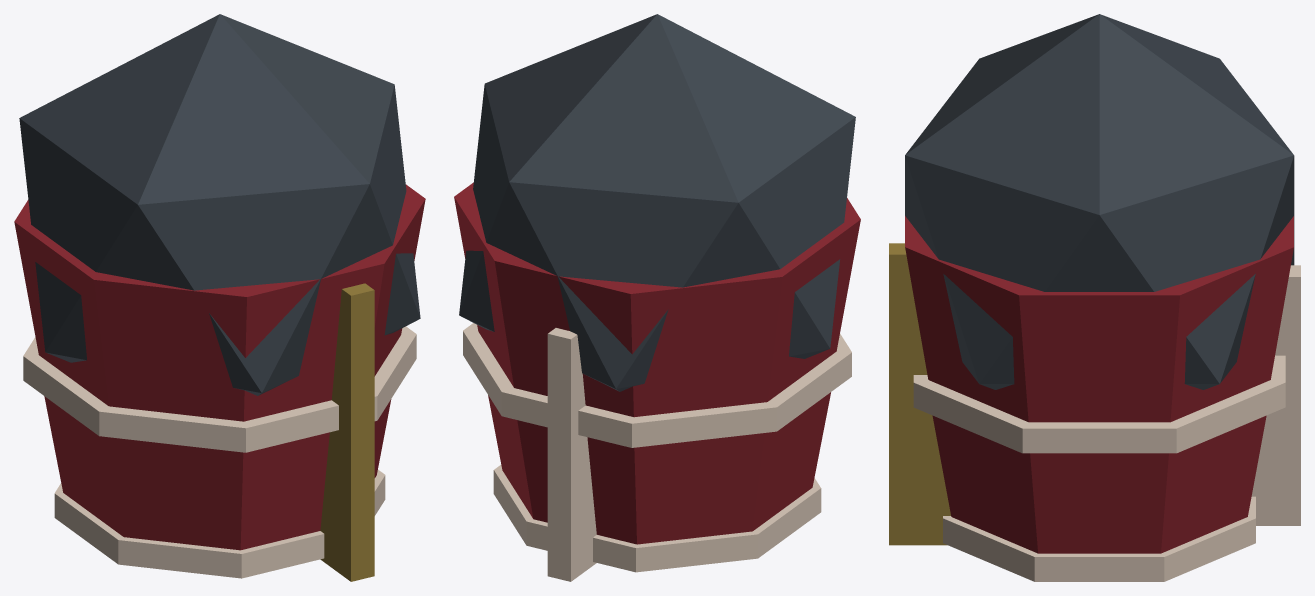
Rendered from inf_runner_upper_arm.fbx.
3 views of the same model, side by side, from view 1: azimuth 30°, elevation 25°; view 2: azimuth 150°, elevation 25°; view 3: azimuth 270°, elevation 25° (orthographic). The views are drawn at different scales.
Parts seen in each view (by area): view 1: inf_runner_upper_arm; view 2: inf_runner_upper_arm; view 3: inf_runner_upper_arm.
Boxes of the visible parts, x1,y1,x2,y2 form: inf_runner_upper_arm: [14, 14, 425, 581]; inf_runner_upper_arm: [454, 14, 860, 581]; inf_runner_upper_arm: [889, 14, 1300, 581].
Size of the model in its own units: 89.44 by 122 by 90.
